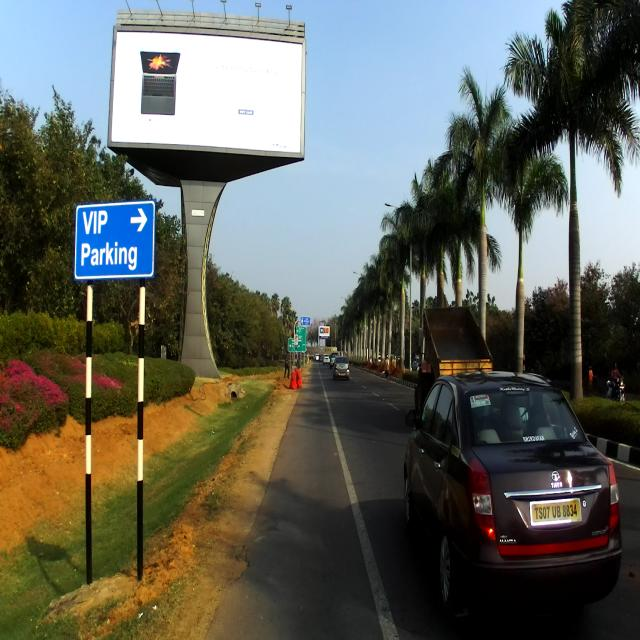barrier ahead at: (61, 194, 173, 592)
car ahead at: (394, 360, 631, 624)
